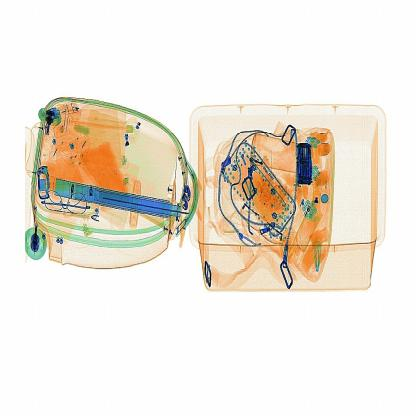scissors: (290, 134, 323, 191)
